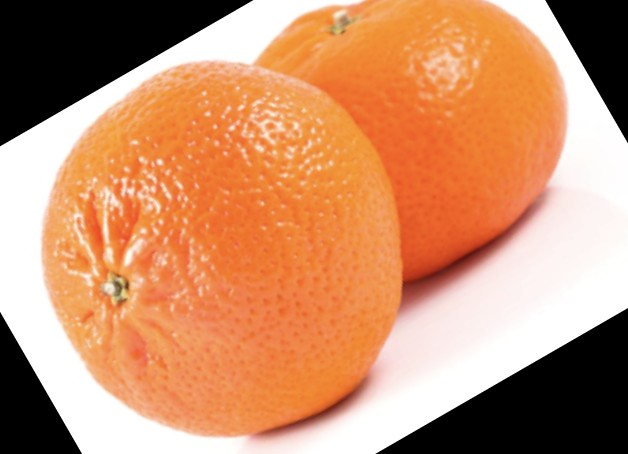fresh_orange: (43, 65, 402, 438), (243, 1, 568, 289)
